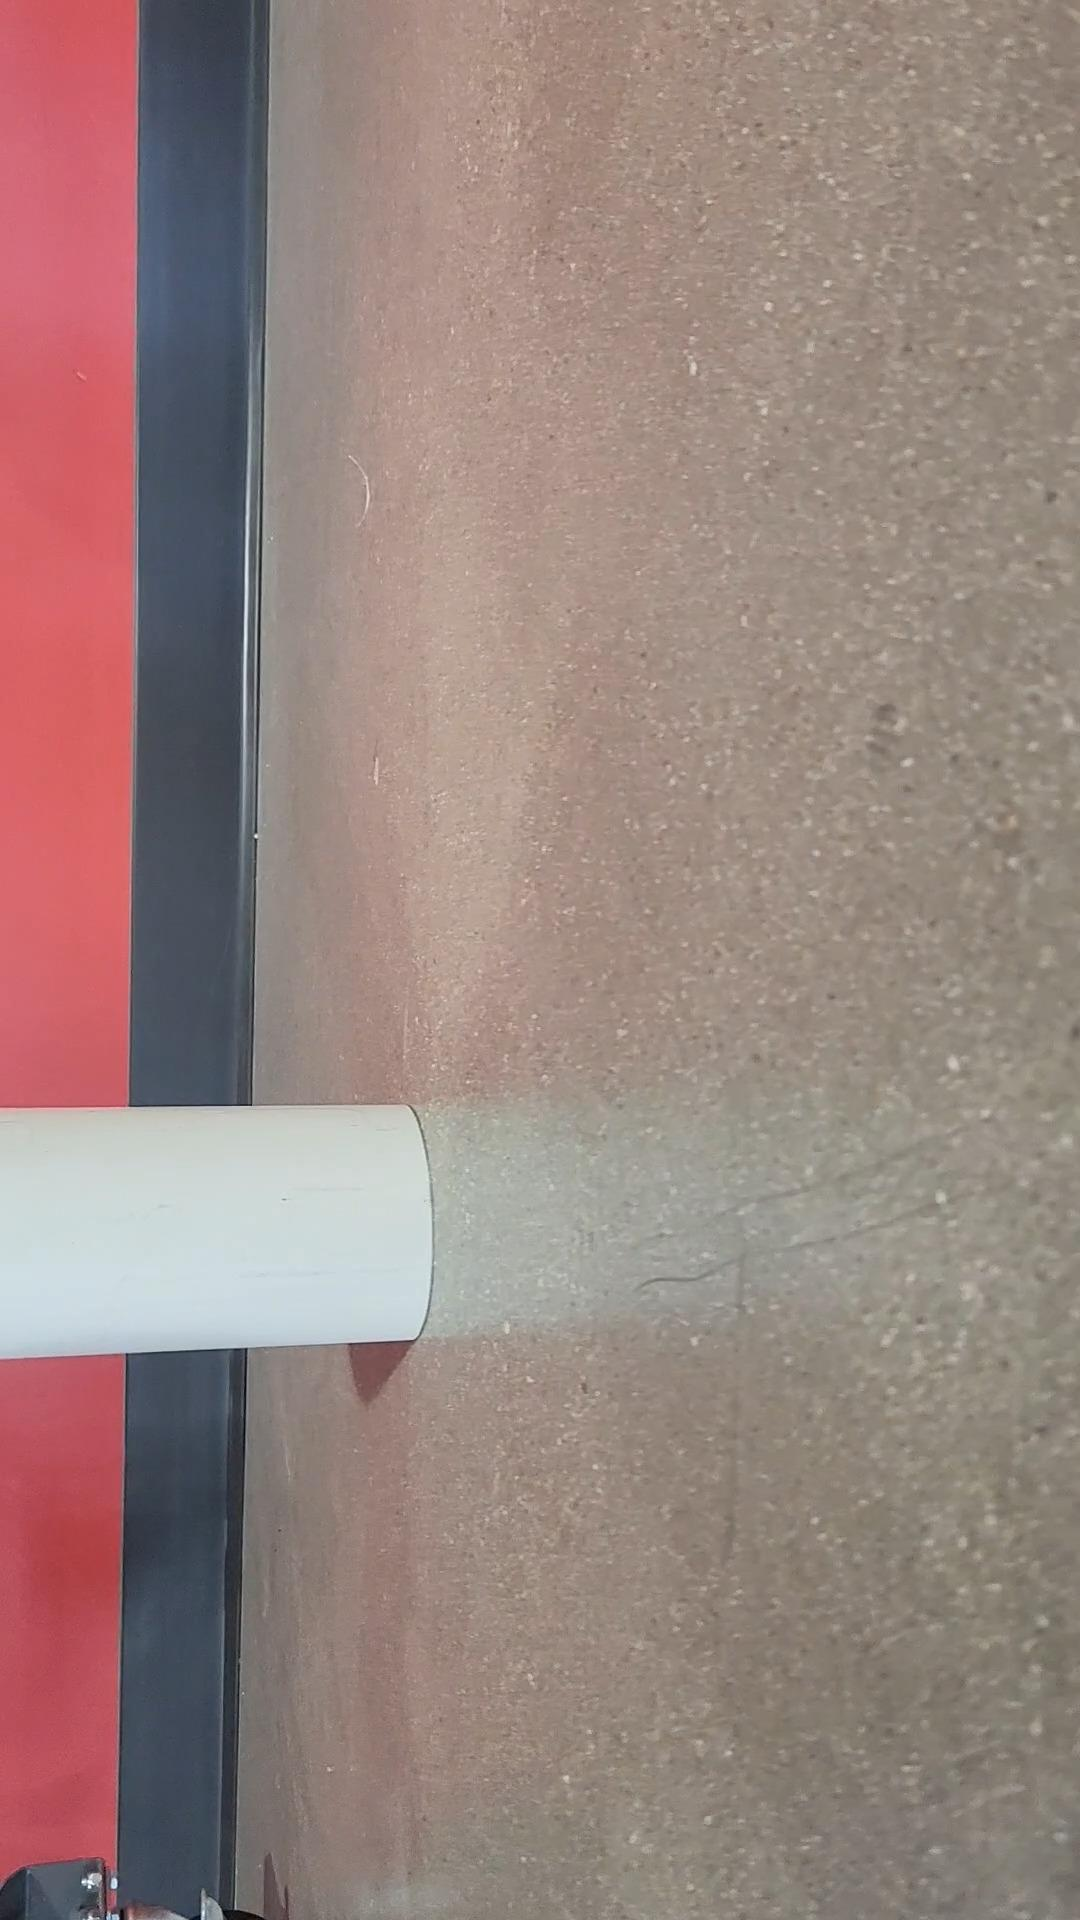coral: (0, 1101, 443, 1373)
